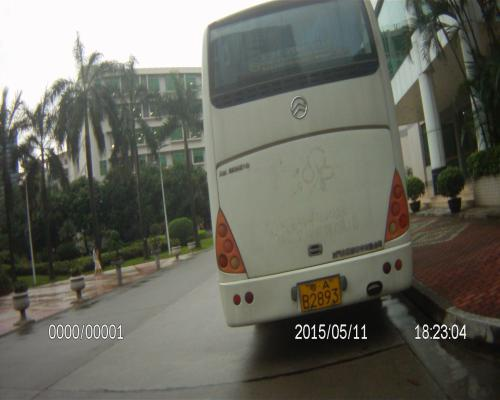Carplate: (294, 275, 346, 315)
